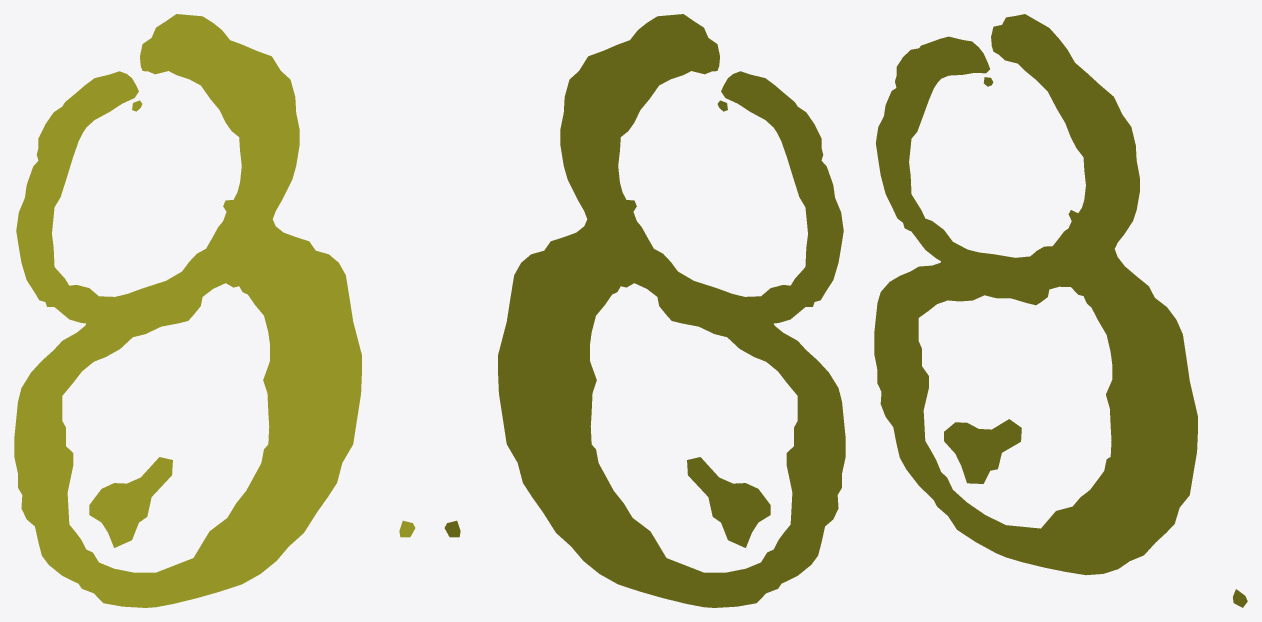
File: eight.obj
3 views of the same model, side by side, from view 1: azimuth 30°, elevation 25°; view 2: azimuth 150°, elevation 25°; view 3: azimuth 330°, elevation 25° (orthographic). The views are drawn at different scales.
Parts seen in each view (by area): view 1: eight.001; view 2: eight.001; view 3: eight.001.
Boxes of the visible parts, box(x1,y1,x2,y2) form: eight.001: box(14, 14, 415, 607); eight.001: box(444, 14, 845, 607); eight.001: box(874, 14, 1247, 607).
Bounding box in the file's own units: 0.3898 × 0.5472 × 0.
